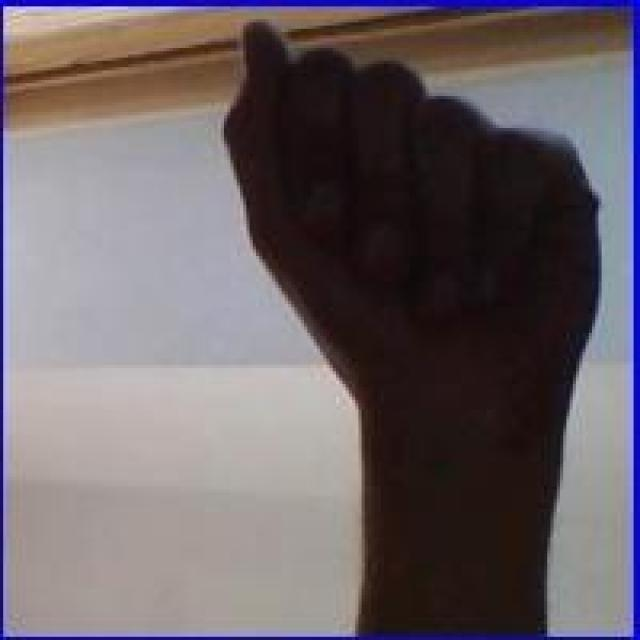A: (214, 13, 608, 544)
